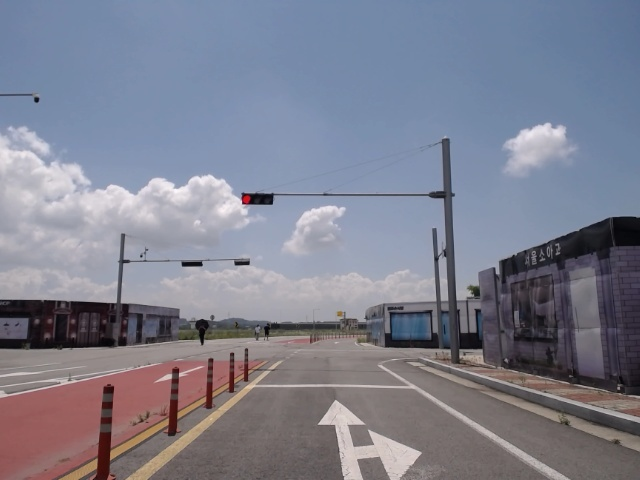red_3: (241, 194, 275, 206)
